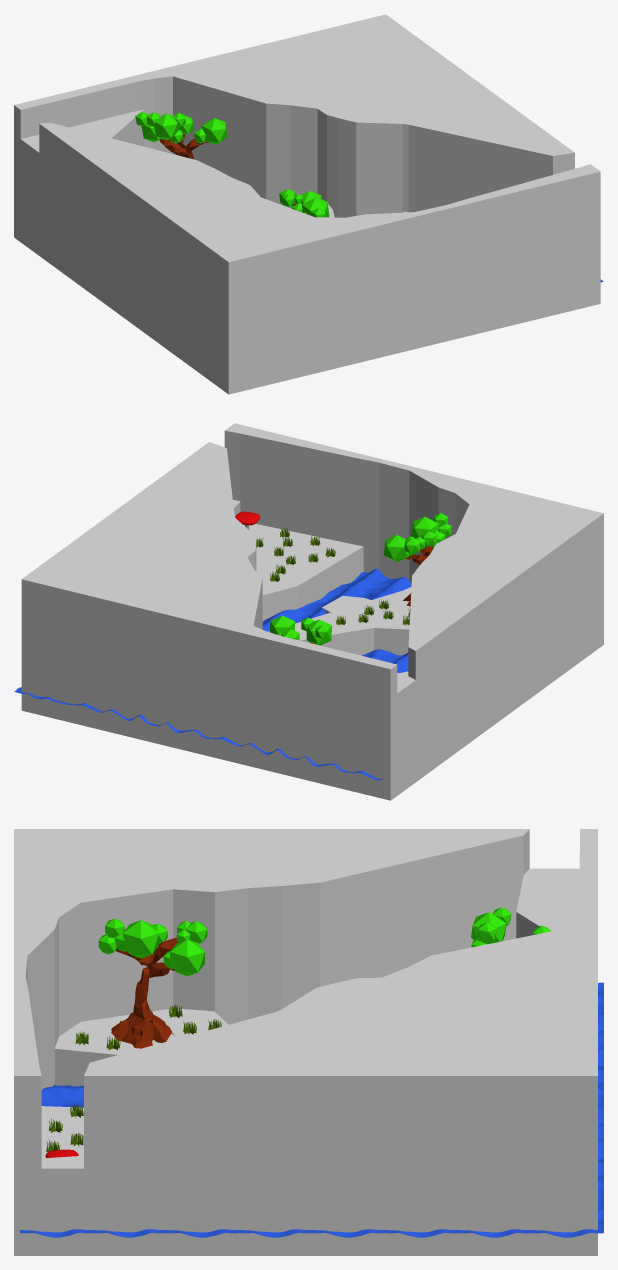
The model's file is stage_1_3_filled.glb.
3 renders of one model, top to bottom at view 1: azimuth 30°, elevation 25°; view 2: azimuth 150°, elevation 25°; view 3: azimuth 270°, elevation 25°, orthographic. The views are drawn at different scales.
Visible parts, largest first — view 1: scene, ground, Icosphere; view 2: scene, ground, Water, Icosphere.015; view 3: scene, ground, Water, trunk, Icosphere.017, Icosphere.015, Icosphere.002.
Part boxes in pixels (bbox=[...]): scene: bbox=[14, 14, 600, 394]; ground: bbox=[21, 109, 407, 217]; Icosphere: bbox=[202, 118, 227, 144]; scene: bbox=[21, 423, 603, 800]; ground: bbox=[233, 500, 415, 693]; Water: bbox=[14, 568, 411, 780]; Icosphere.015: bbox=[383, 535, 408, 561]; scene: bbox=[14, 829, 597, 1255]; ground: bbox=[41, 868, 579, 1168]; Water: bbox=[20, 982, 603, 1237]; trunk: bbox=[111, 937, 178, 1048]; Icosphere.017: bbox=[123, 920, 158, 958]; Icosphere.015: bbox=[170, 939, 204, 976]; Icosphere.002: bbox=[471, 912, 506, 944].
Size of the model in its own units: 81.17 by 27.2 by 80.81.
